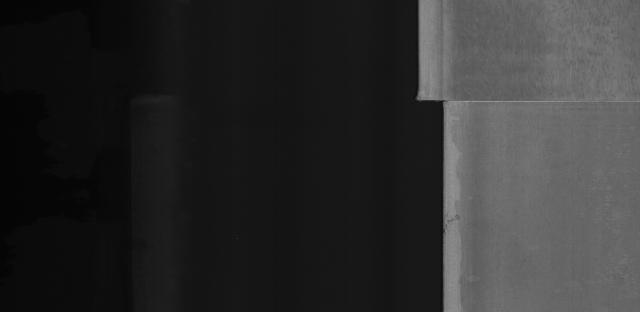oil_spot: (444, 204, 465, 238)
welding_line: (417, 90, 639, 110)
